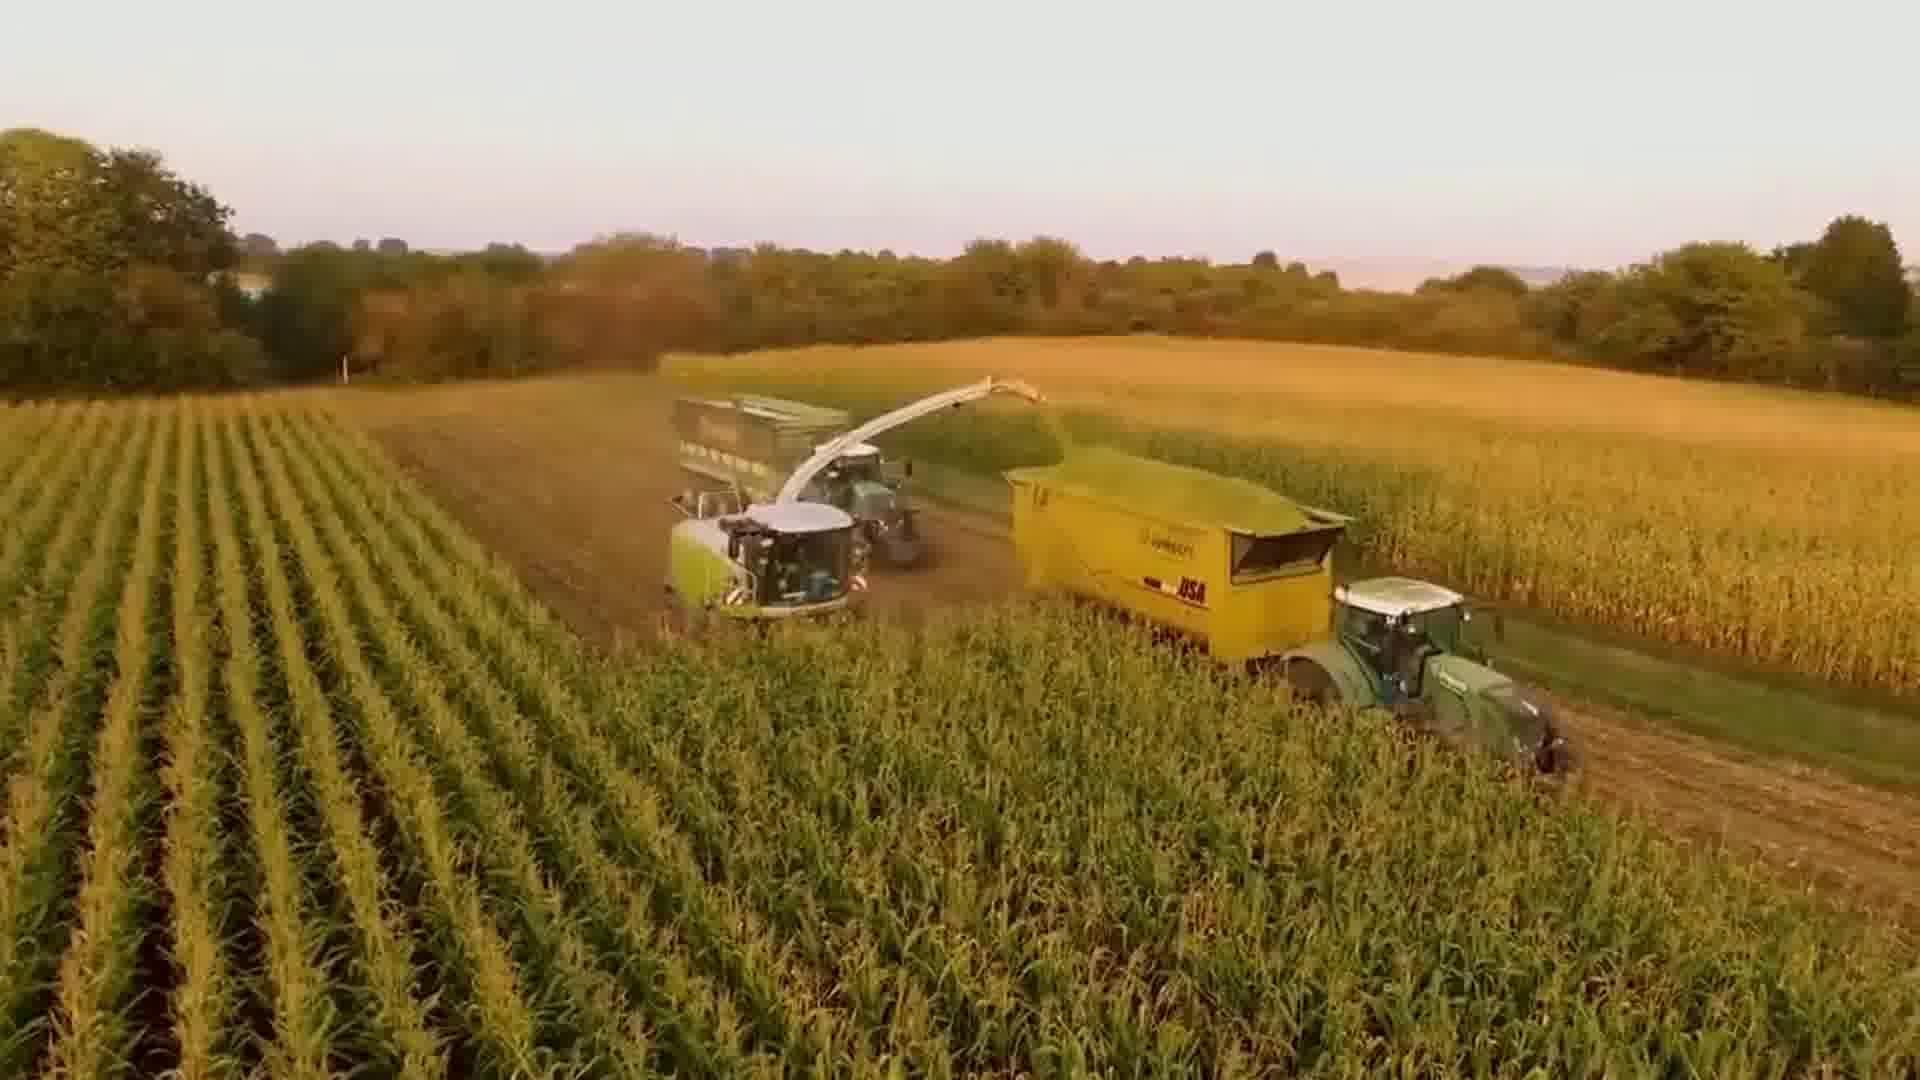combine harvester: (654, 369, 1001, 667)
tractor: (1259, 568, 1592, 800), (798, 436, 928, 570)
trailer: (994, 444, 1358, 705), (665, 384, 849, 512)
